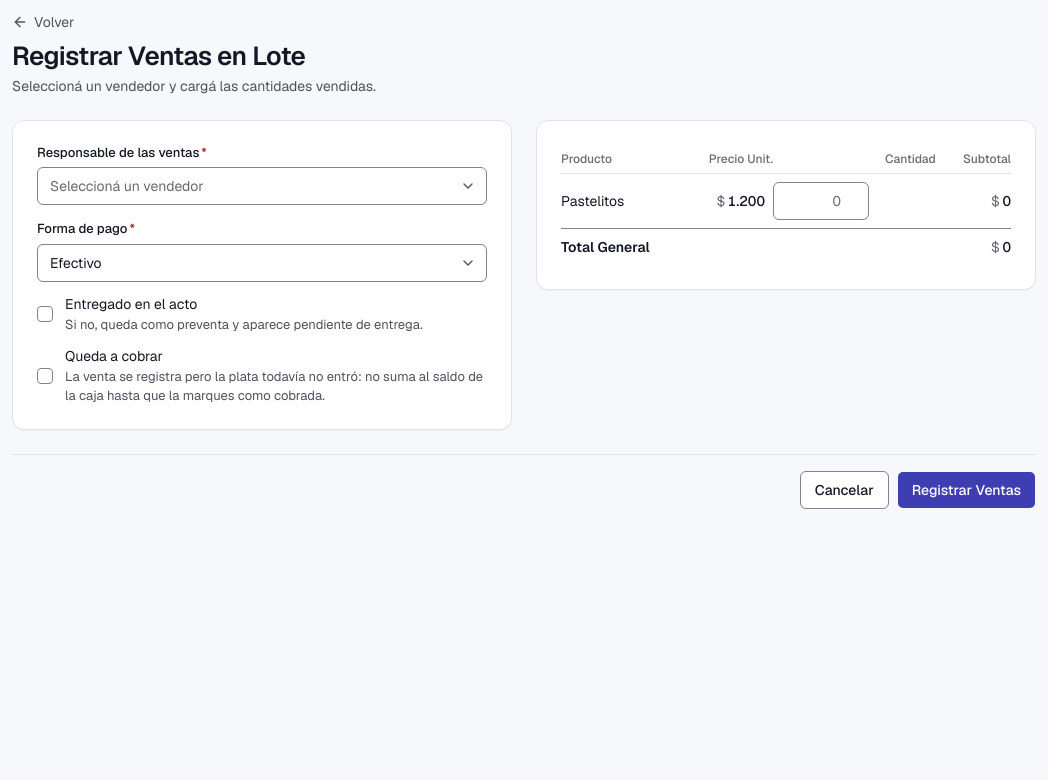
Test: VentasLoteView › registra el lote y vuelve al tab ventas
Type "2" into the number field named "Cantidad de Pastelitos" at [821, 201], box [773,182,869,220]
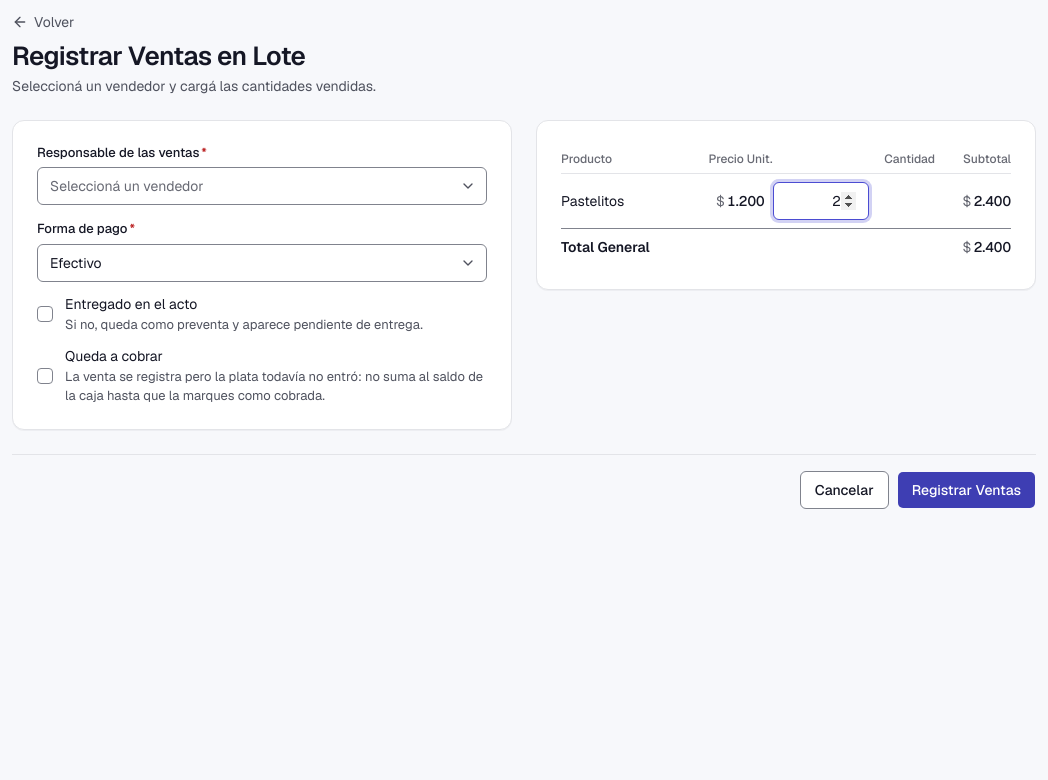
Click the button "Registrar Ventas" at [966, 490], box [897,471,1036,509]
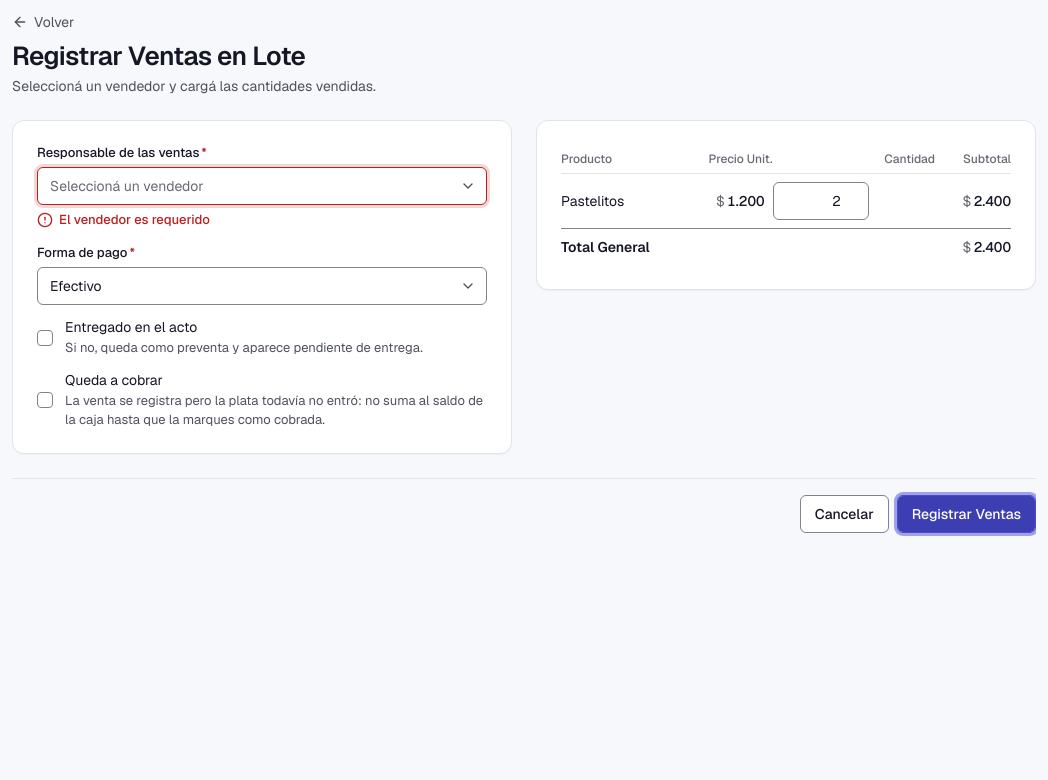
Now the text "El vendedor es requerido" is shown, box [59,211,210,229]
